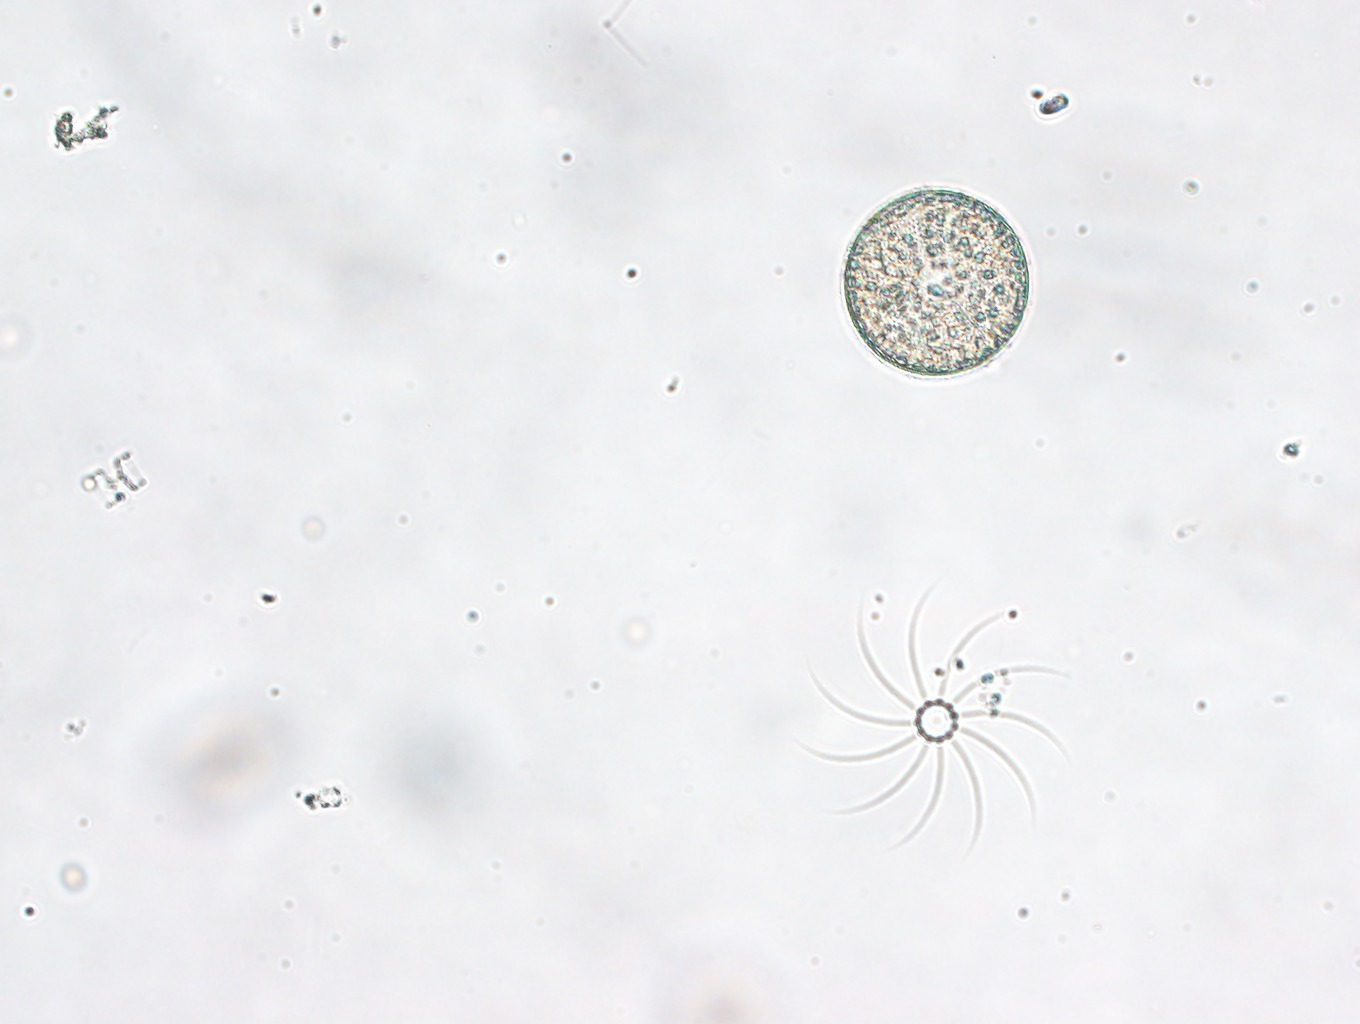bacteriastrum: (812, 592, 1066, 851)
coscinodiscus: (843, 187, 1029, 376)
